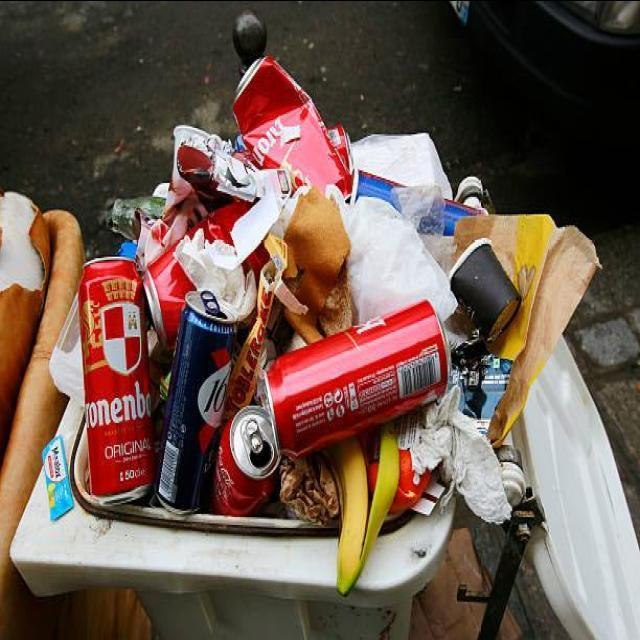Garbage: (50, 12, 598, 593)
Plastic_wraper: (455, 214, 599, 445), (42, 436, 73, 519)
can: (265, 301, 450, 454), (154, 289, 236, 511), (79, 256, 154, 498), (234, 57, 352, 196), (211, 404, 279, 516), (144, 242, 194, 348), (188, 199, 252, 244)
